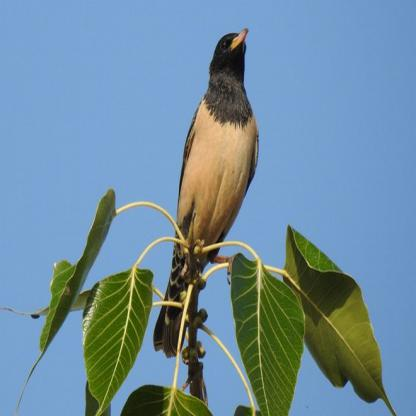Burung: (152, 25, 260, 350)
